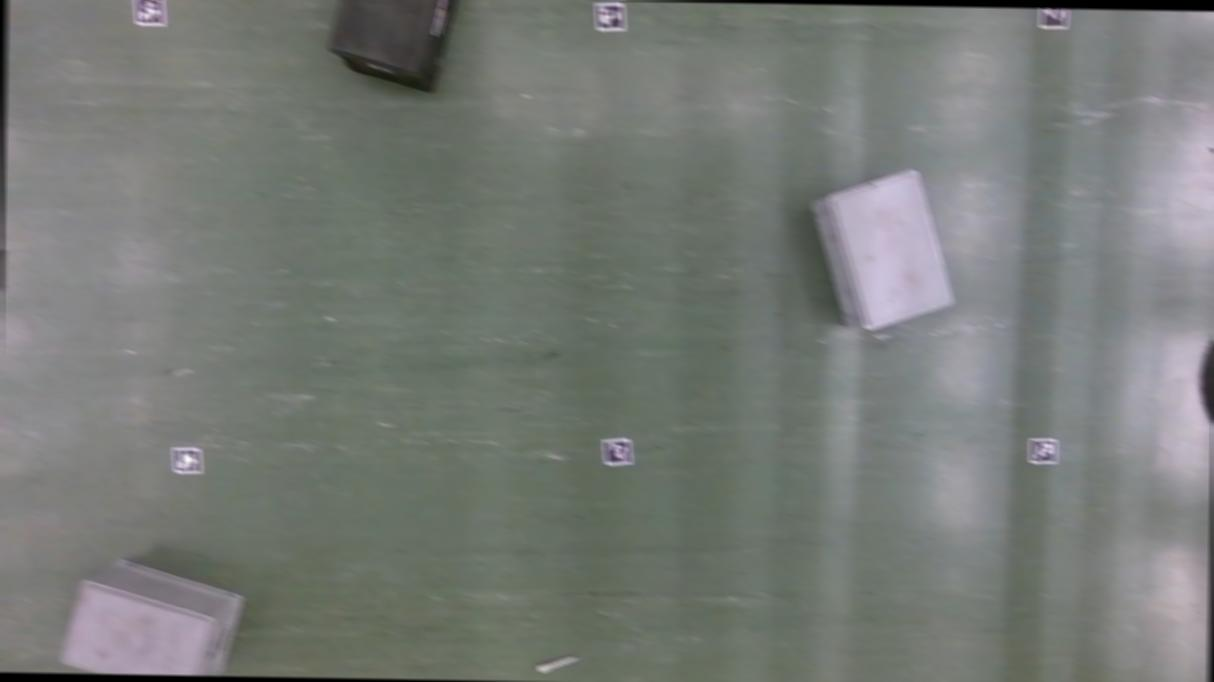probes: (536, 654, 578, 674), (1206, 146, 1214, 174)
rako: (52, 550, 267, 676), (807, 166, 954, 342), (324, 0, 467, 92)
